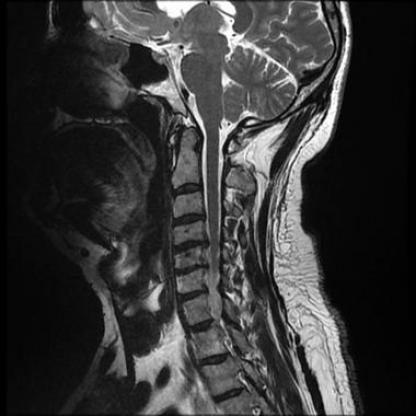Disc Protrusionrotation: (174, 287, 210, 303), (170, 213, 206, 227), (171, 239, 207, 253), (171, 264, 209, 276)
Osteophytesrotation: (173, 287, 209, 303), (170, 239, 207, 253), (170, 213, 206, 227), (171, 264, 209, 276)
